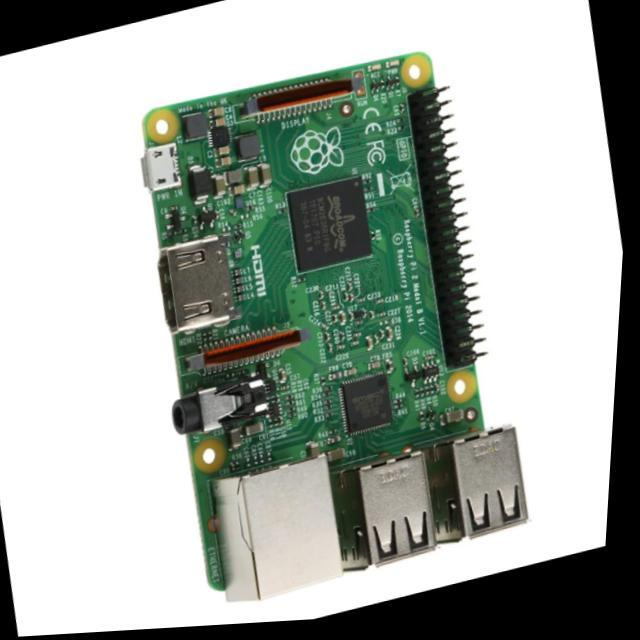Raspberry-Pi-2-B: (143, 53, 528, 601)
